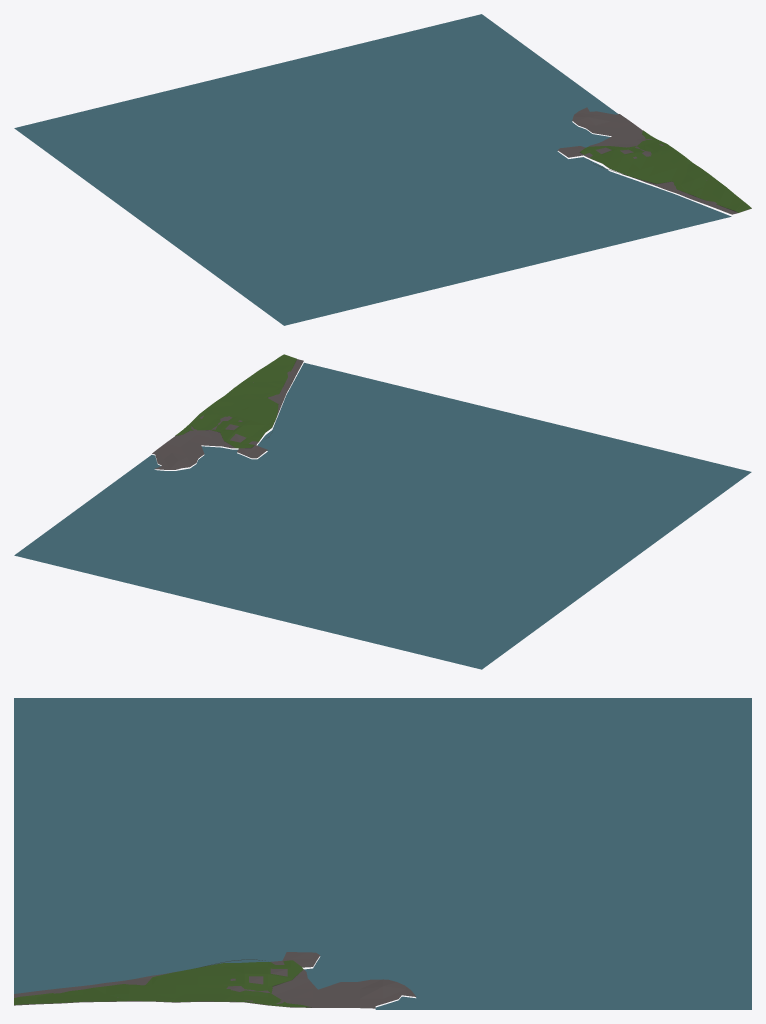
3 renders of one model, top to bottom at view 1: azimuth 30°, elevation 25°; view 2: azimuth 150°, elevation 25°; view 3: azimuth 270°, elevation 25°, orthographic. The views are drawn at different scales.
Visible parts, largest first — view 1: c_m17_p00; view 2: c_m17_p00; view 3: c_m17_p00.
Boxes of the visible parts, x1,y1,x2,y2 form: c_m17_p00: (14, 14, 751, 325); c_m17_p00: (14, 354, 751, 669); c_m17_p00: (14, 698, 751, 1009).
Size of the model in its own units: 128 by 1.69 by 128.
